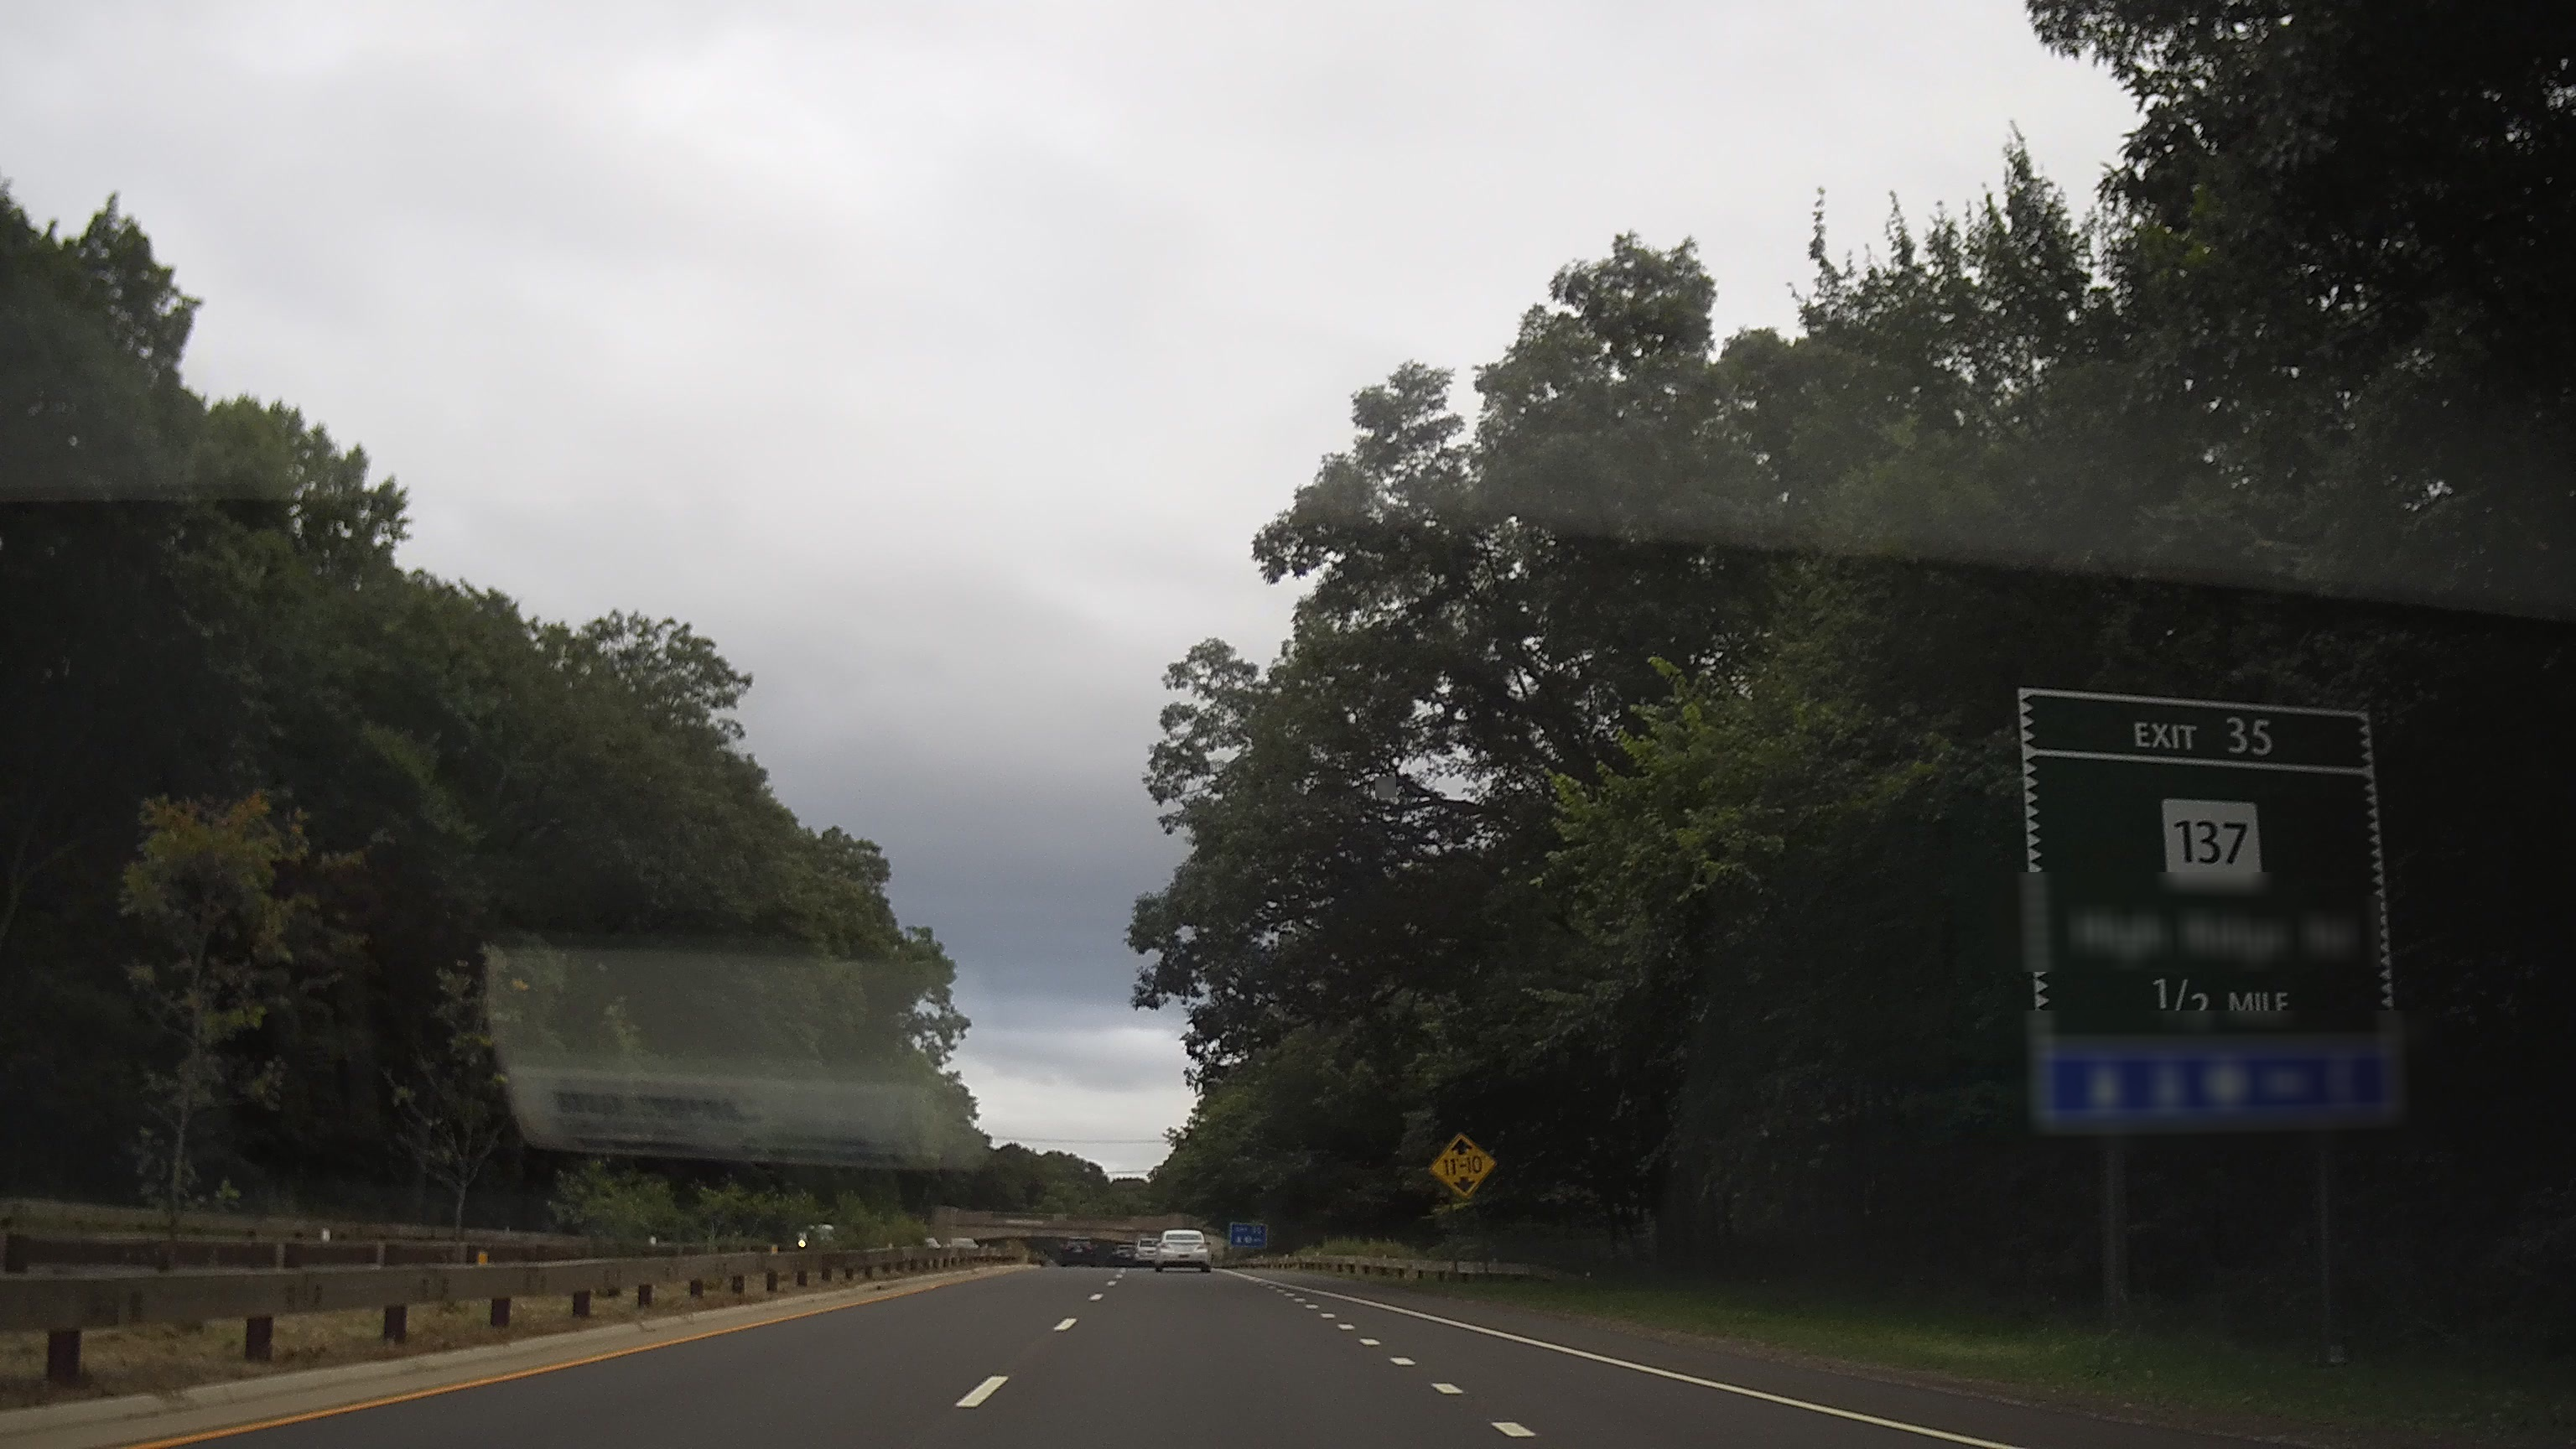low-clearance-sign: (1428, 1132, 1499, 1201)
